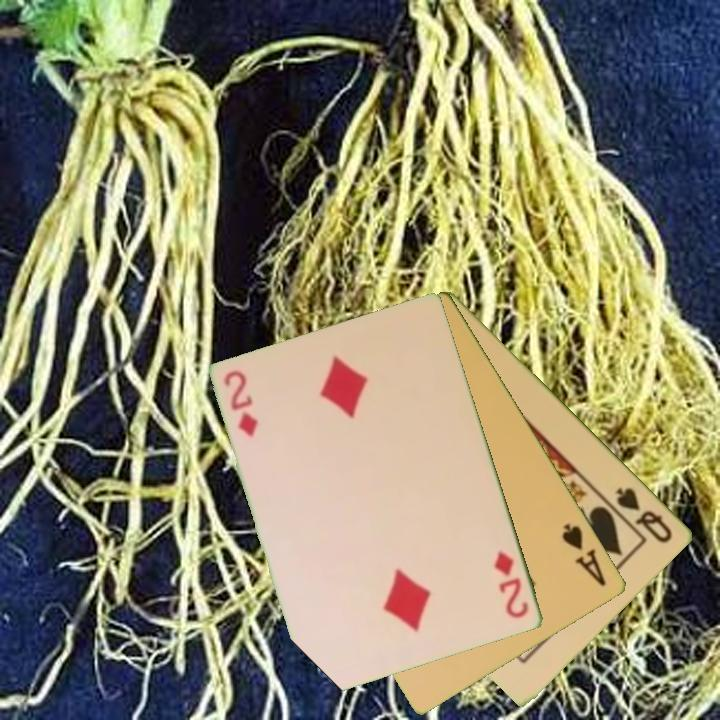2d: (491, 547, 532, 622), (221, 367, 262, 440)
As: (558, 519, 610, 589)
Qs: (612, 483, 676, 546)
